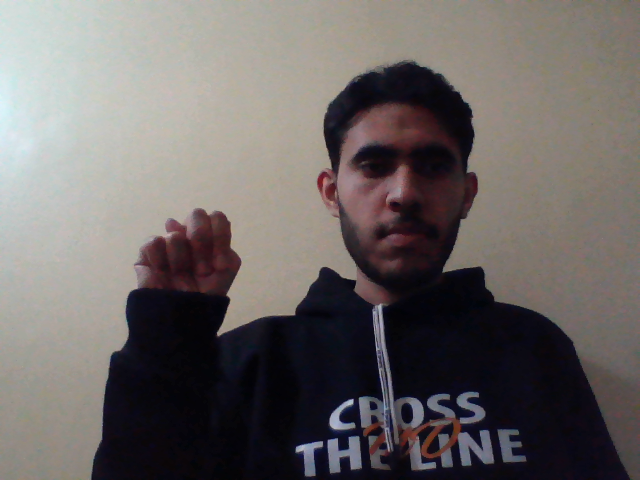N: (132, 201, 243, 319)
